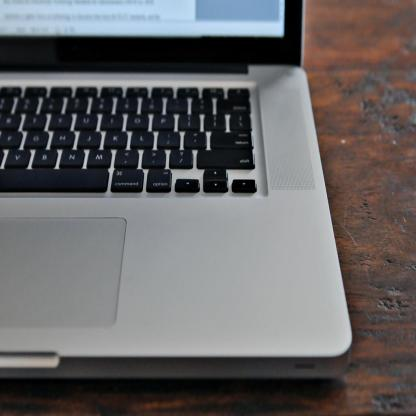board: (0, 0, 353, 393)
